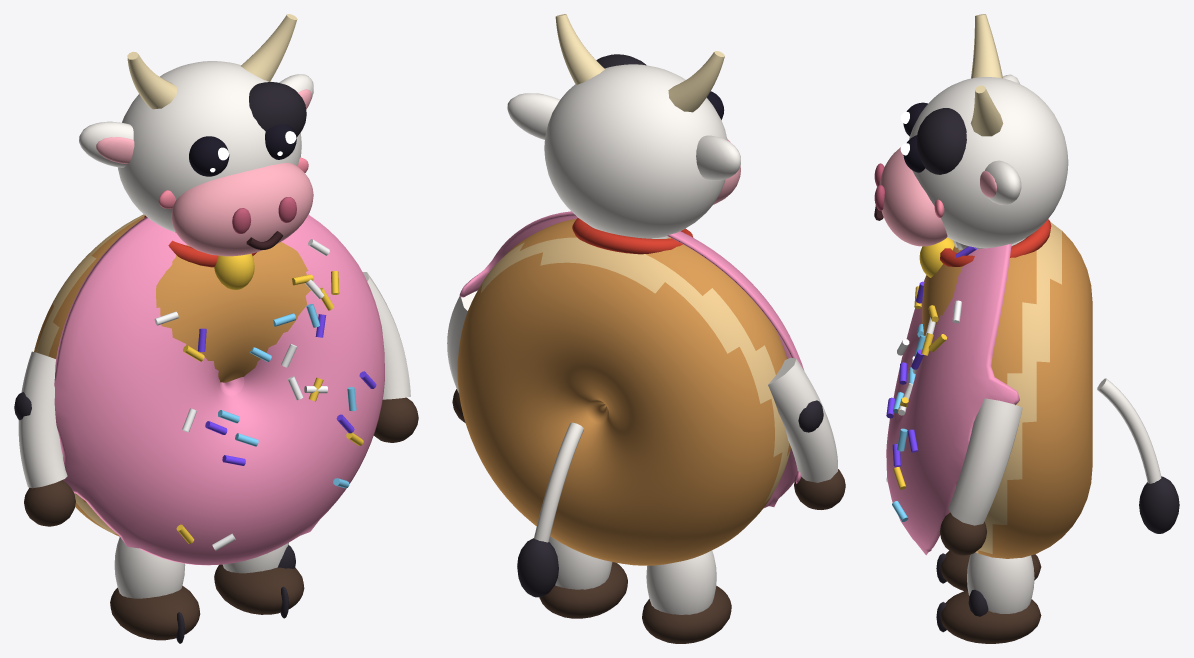
The model's file is pilot_ku2_smultring.glb.
The picture shows the model from 3 angles, left to right: view 1: azimuth 30°, elevation 25°; view 2: azimuth 150°, elevation 25°; view 3: azimuth 270°, elevation 25°; orthographic projection. The views are drawn at different scales.
Visible parts, largest first — view 1: kropp, hode, vinge_v, bein_vf, bein_hf, vinge_h; view 2: kropp, hode, vinge_v, bein_vf, bein_hf, hale, vinge_h; view 3: kropp, hode, bein_hf, vinge_h, hale, bein_vf.
Boxes of the visible parts, bbox=[...] form: kropp: bbox=[34, 214, 384, 565]; hode: bbox=[79, 14, 313, 289]; vinge_v: bbox=[14, 351, 75, 526]; bein_vf: bbox=[110, 537, 200, 643]; bein_hf: bbox=[214, 543, 304, 618]; vinge_h: bbox=[362, 272, 418, 442]; kropp: bbox=[457, 211, 804, 565]; hode: bbox=[507, 14, 740, 254]; vinge_v: bbox=[768, 357, 845, 509]; bein_vf: bbox=[642, 550, 731, 643]; bein_hf: bbox=[539, 536, 627, 618]; hale: bbox=[517, 422, 583, 597]; vinge_h: bbox=[447, 290, 477, 422]; kropp: bbox=[886, 222, 1092, 558]; hode: bbox=[874, 14, 1068, 277]; bein_hf: bbox=[936, 552, 1041, 643]; vinge_h: bbox=[940, 398, 1022, 555]; hale: bbox=[1097, 378, 1179, 533]; bein_vf: bbox=[936, 550, 1041, 590].
Bounding box in the file's own units: 1.27 × 1.84 × 0.9023.
